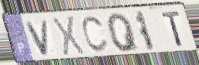1: (134, 9, 157, 53)
C: (81, 15, 110, 54)
Q: (106, 12, 141, 54)
T: (160, 10, 185, 48)
V: (24, 19, 51, 57)
X: (51, 15, 86, 58)
